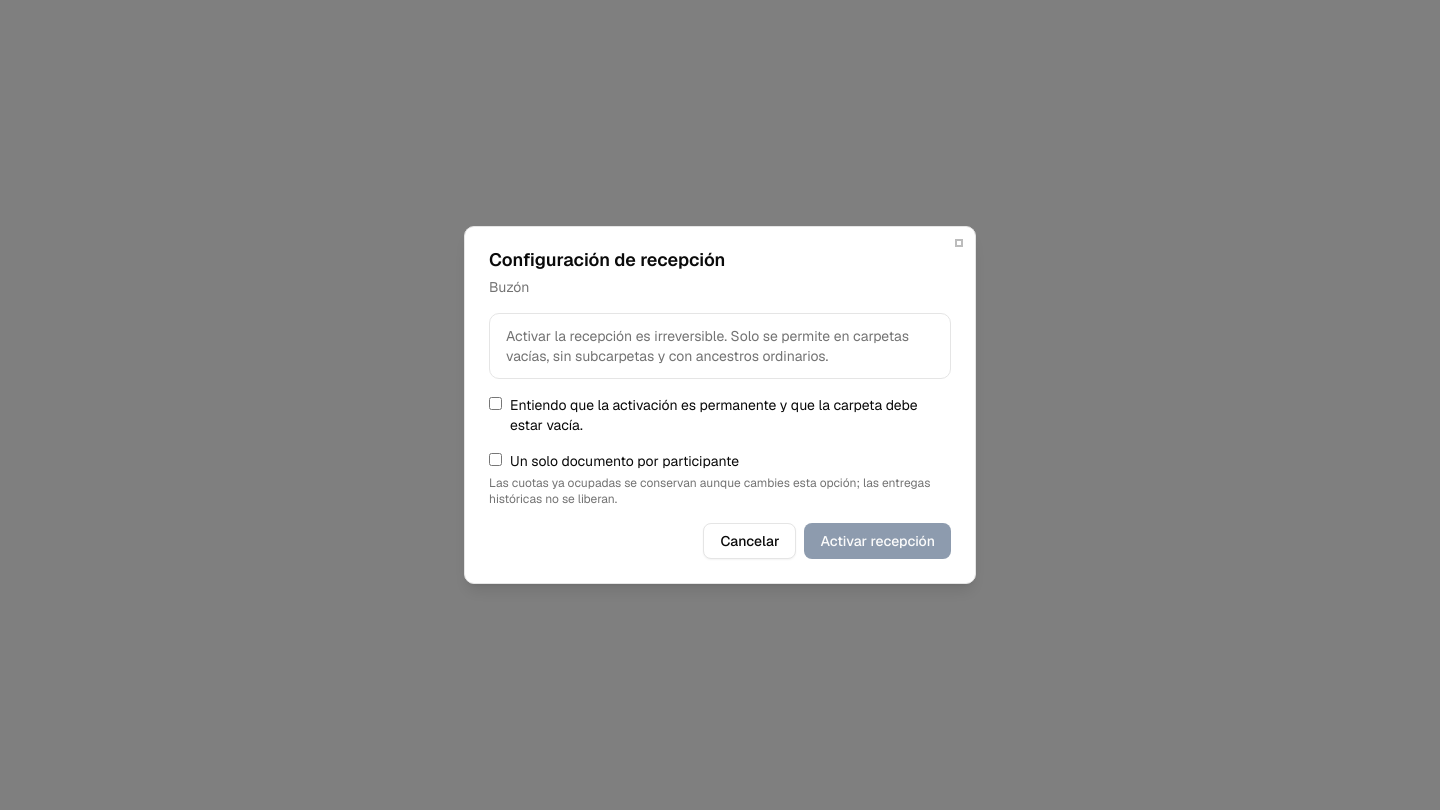
Test case: shows a 409 without a fake success or losing the confirmed draft
The width and height of the screenshot is (1440, 810).
Check: the button "Activar recepción" is shown, box [804, 523, 951, 559]
Click the checkbox labelled "Entiendo que la activación" at (496, 404), box [489, 397, 502, 410]
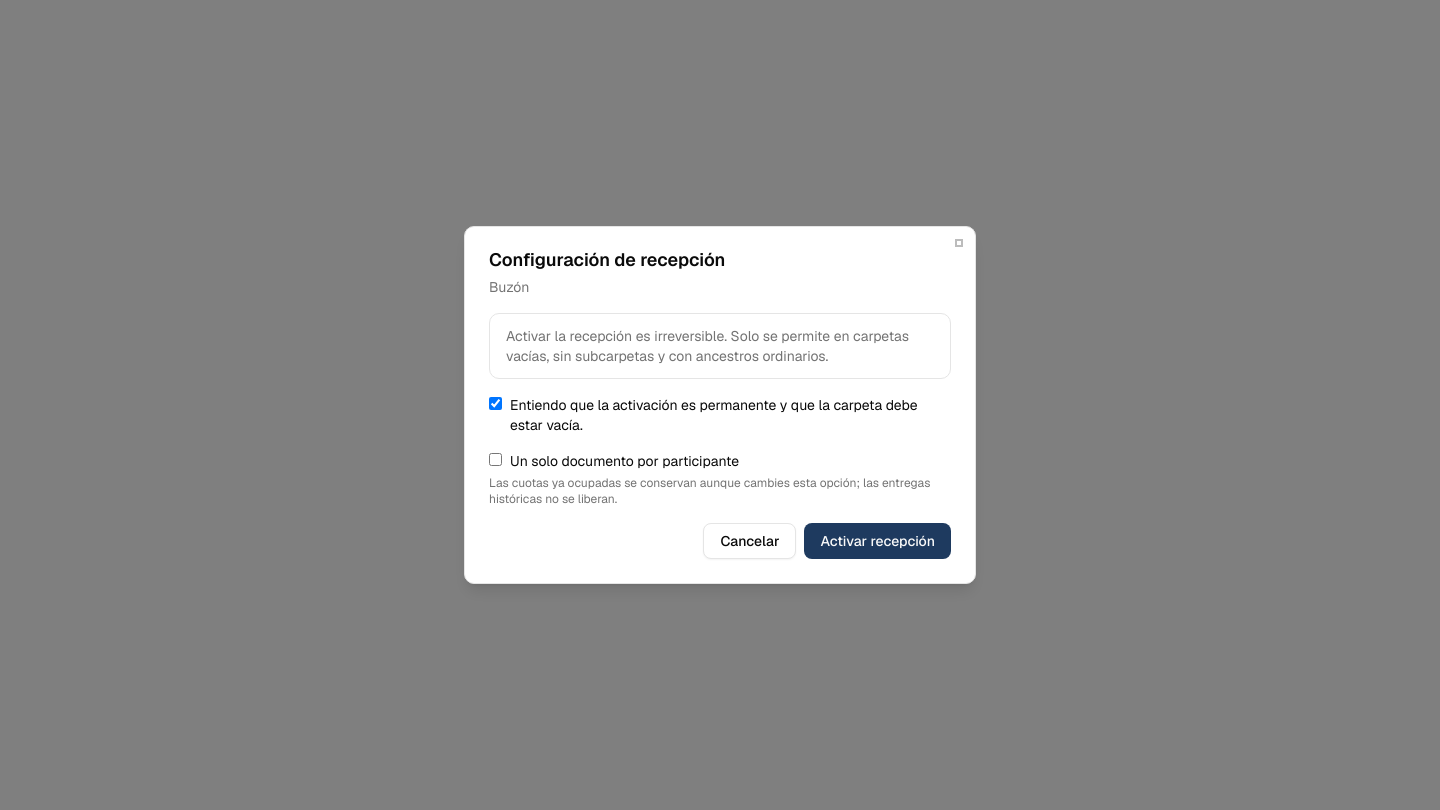
Click the button "Activar recepción" at (878, 541), box [804, 523, 951, 559]
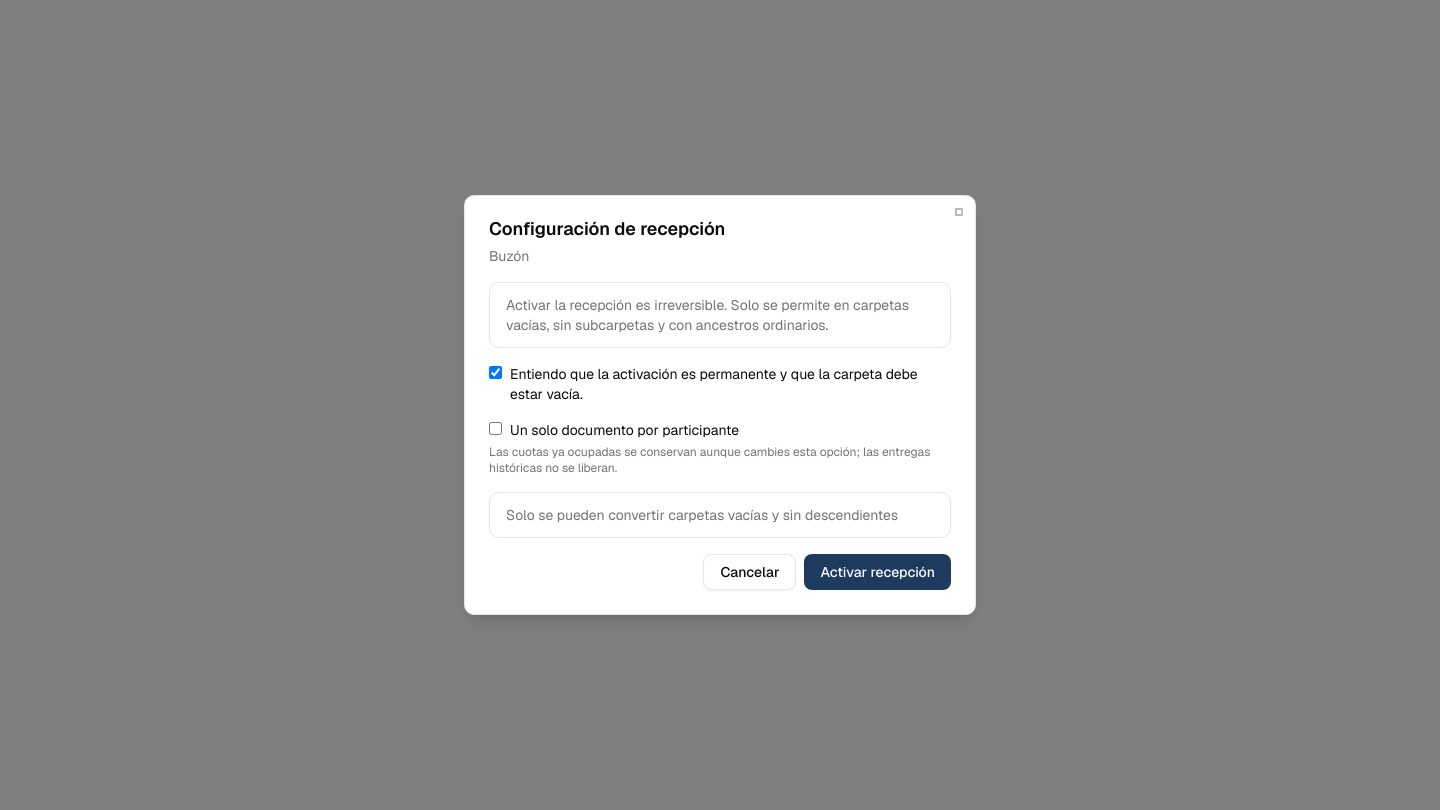
Check: the checkbox labelled "Entiendo que la activación" is checked, box [489, 366, 502, 379]
Check: the text "Solo se pueden convertir carpetas vacías y sin descendientes" is shown, box [506, 505, 934, 525]
